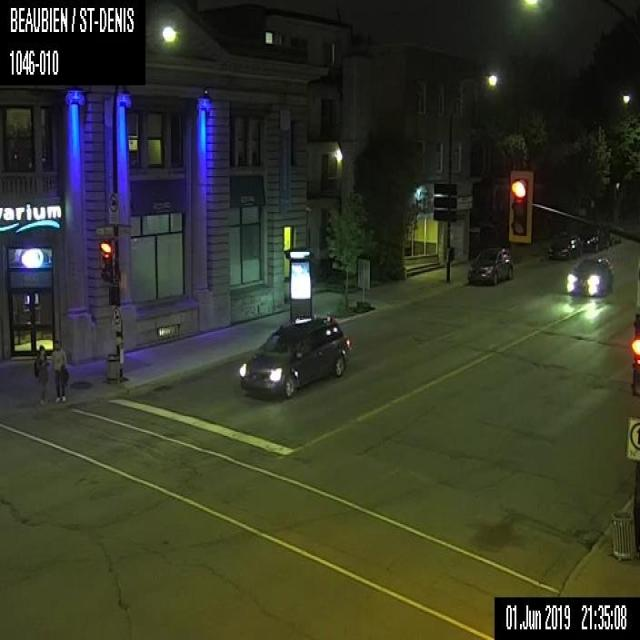pedestrian: (49, 338, 68, 402), (32, 344, 47, 405)
vehicle: (236, 315, 350, 400), (462, 241, 514, 287), (565, 256, 612, 296), (544, 233, 582, 260), (578, 225, 610, 252)
